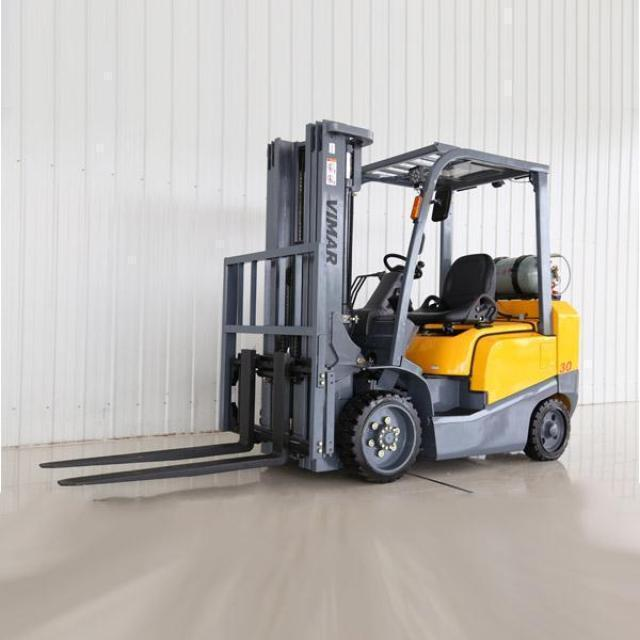forklift: (212, 121, 578, 487)
